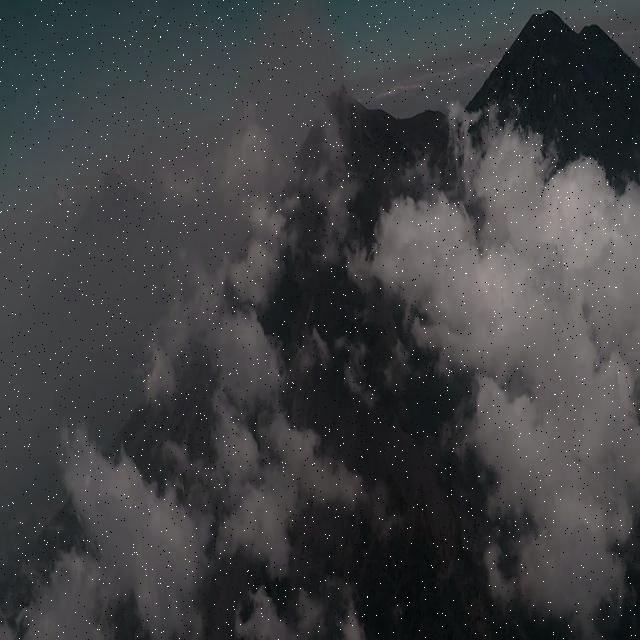Summit: (304, 84, 396, 146)
